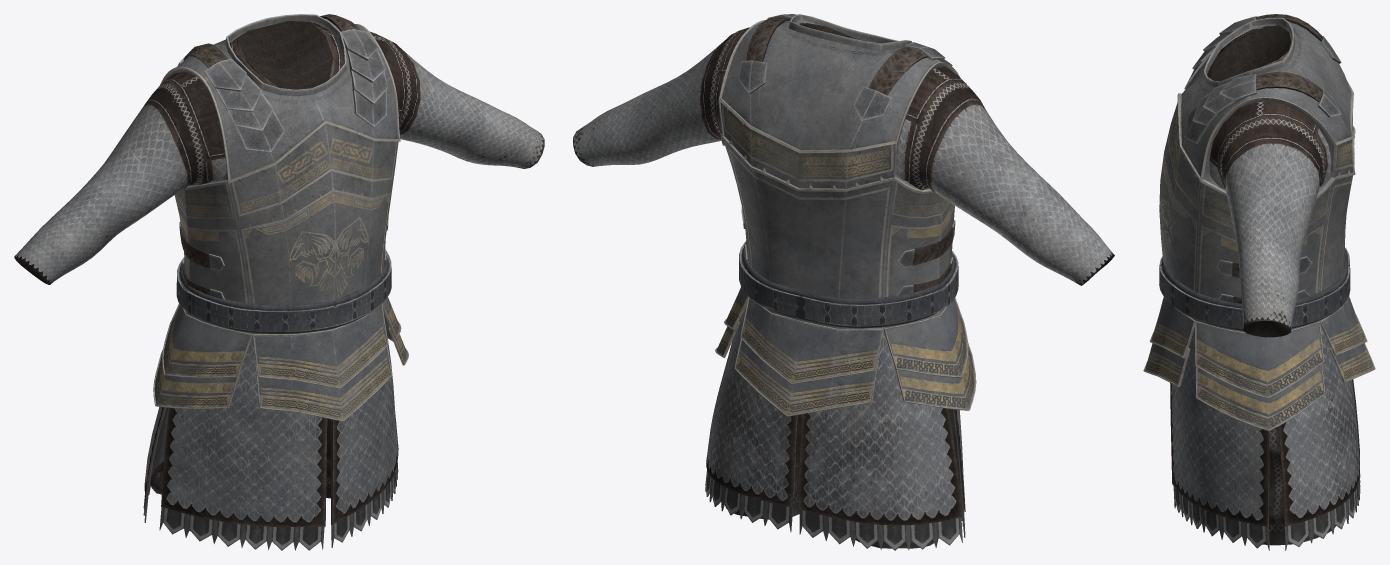
File: sk_dwarf_erebor_chest_plate_elite_b2.fbx
3 renders of one model, left to right at view 1: azimuth 30°, elevation 25°; view 2: azimuth 150°, elevation 25°; view 3: azimuth 270°, elevation 25°, orthographic. The views are drawn at different scales.
Parts seen in each view (by area): view 1: sk_dwarf_erebor_chest_plate_elite_b2.3, sk_dwarf_erebor_chest_plate_elite_b2.2, sk_dwarf_erebor_chest_plate_elite_b2.1, sk_dwarf_erebor_chest_plate_elite_b2.0; view 2: sk_dwarf_erebor_chest_plate_elite_b2.3, sk_dwarf_erebor_chest_plate_elite_b2.2, sk_dwarf_erebor_chest_plate_elite_b2.0, sk_dwarf_erebor_chest_plate_elite_b2.1; view 3: sk_dwarf_erebor_chest_plate_elite_b2.3, sk_dwarf_erebor_chest_plate_elite_b2.2, sk_dwarf_erebor_chest_plate_elite_b2.1, sk_dwarf_erebor_chest_plate_elite_b2.0.
Boxes of the visible parts, x1,y1,x2,y2 form: sk_dwarf_erebor_chest_plate_elite_b2.3: (153,14,408,421); sk_dwarf_erebor_chest_plate_elite_b2.2: (14,21,544,526); sk_dwarf_erebor_chest_plate_elite_b2.1: (178,14,388,299); sk_dwarf_erebor_chest_plate_elite_b2.0: (143,407,398,550); sk_dwarf_erebor_chest_plate_elite_b2.3: (715,14,976,416); sk_dwarf_erebor_chest_plate_elite_b2.2: (573,23,1114,525); sk_dwarf_erebor_chest_plate_elite_b2.0: (705,409,965,550); sk_dwarf_erebor_chest_plate_elite_b2.1: (738,14,955,295); sk_dwarf_erebor_chest_plate_elite_b2.3: (1143,18,1375,431); sk_dwarf_erebor_chest_plate_elite_b2.2: (1170,25,1359,526); sk_dwarf_erebor_chest_plate_elite_b2.1: (1184,14,1341,303); sk_dwarf_erebor_chest_plate_elite_b2.0: (1173,427,1360,550).
Bounding box in the file's own units: 1.16 × 0.4648 × 1.04.
Materials: 4 (4 with a texture image).
